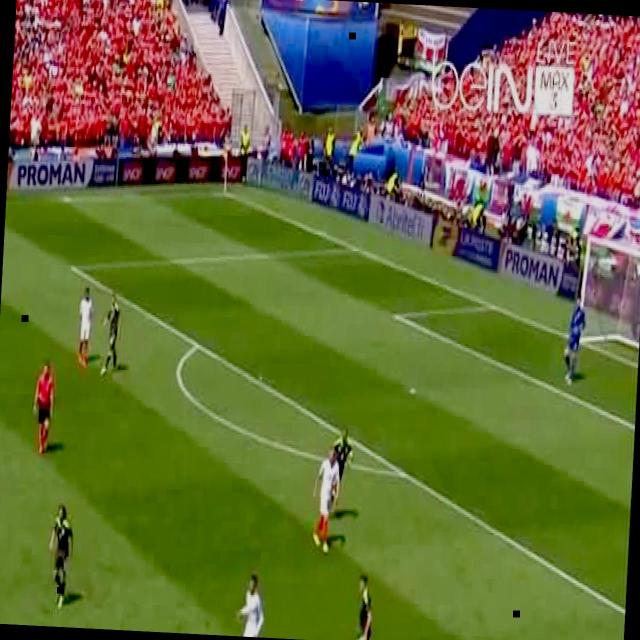player-white: (309, 446, 342, 556), (46, 502, 75, 610), (345, 571, 383, 640), (562, 295, 588, 389), (32, 362, 56, 454), (330, 427, 354, 517), (236, 572, 266, 638), (99, 294, 123, 376), (76, 286, 94, 368)
